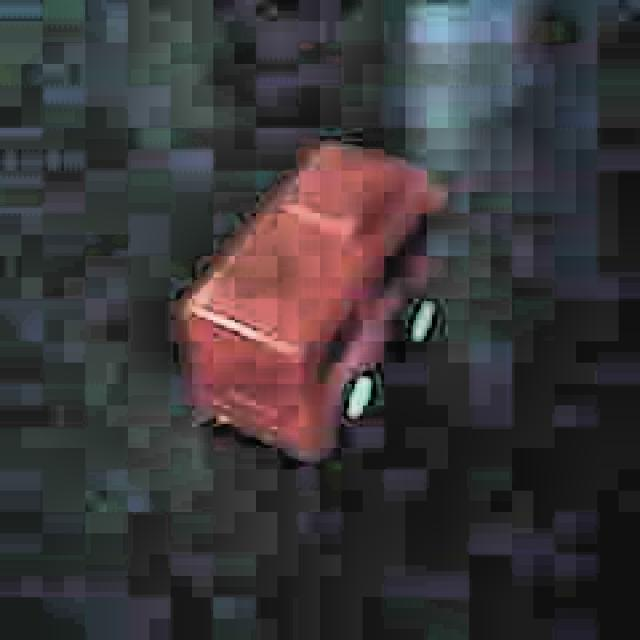bus: (172, 132, 447, 474)
